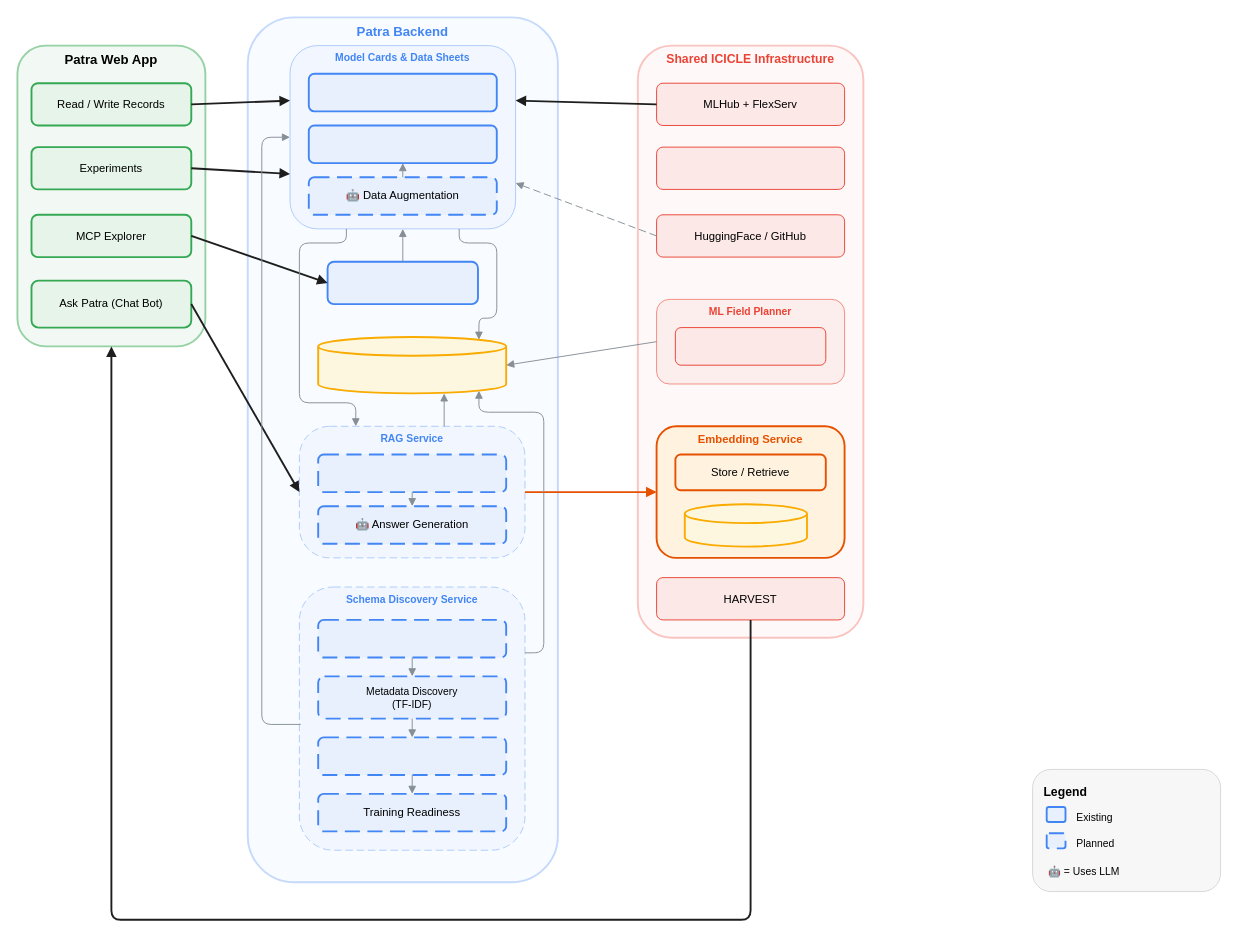
Image size: 1237x944. Some labels were removed from this diagram. Here are the shapes that lost their labels. From the top down, the centre of each, then its label:
the point at 402,92: Read Service
the point at 402,144: Write Service
the point at 750,167: AI Studio
the point at 402,282: MCP Service
the point at 412,365: PostgreSQL
the point at 750,346: CKN Broker
the point at 412,473: Query Processing
the point at 745,525: Qdrant
the point at 412,638: 🤖 Intent Schema
the point at 412,756: Dataset Assembly
